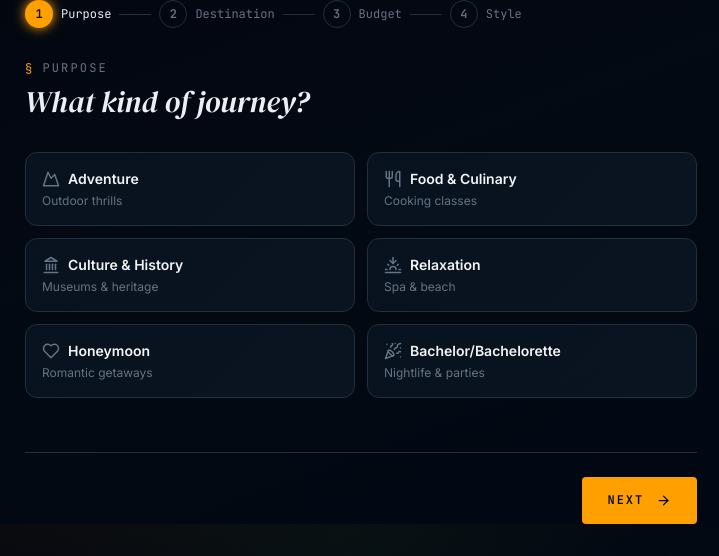
Test case: PlanWizard › purpose is mandatory — Next shows error without selection
Step 1. Click the button "Next" → x=639, y=500, box [582, 477, 697, 524]
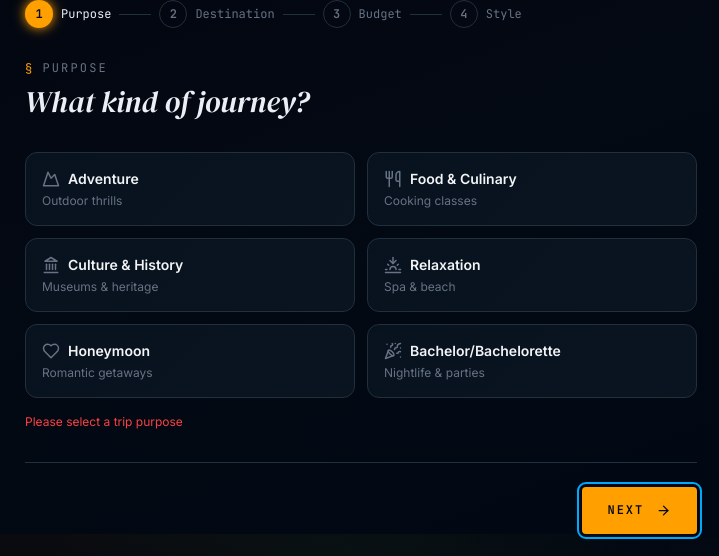
Result: the text "Please select a trip purpose" is shown at [25, 414, 183, 429]
